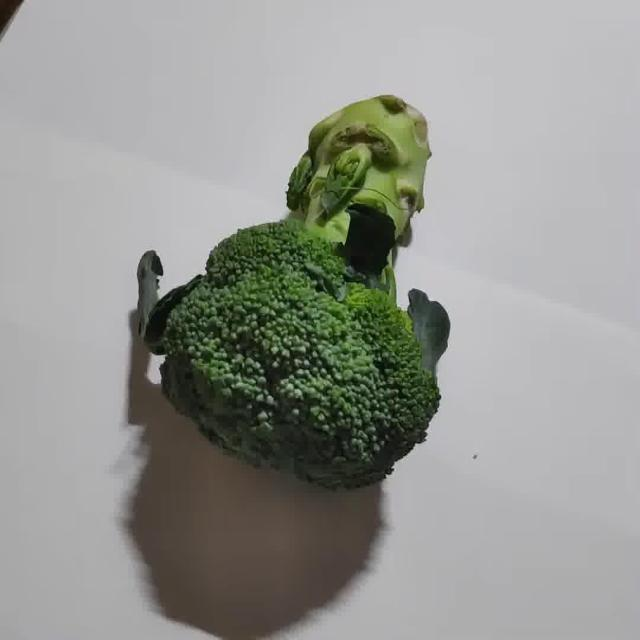Broccoli: (138, 95, 449, 489)
